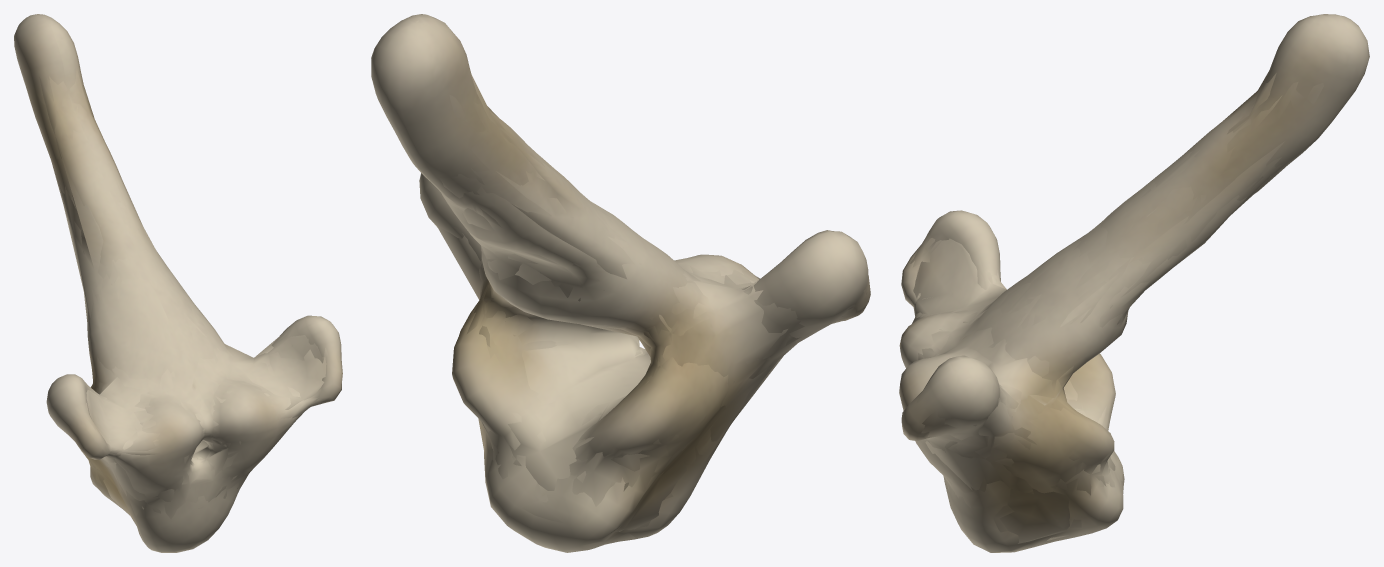
Rendered from vertebrae thoracicae 07.fbx.
3 renders of one model, left to right at view 1: azimuth 30°, elevation 25°; view 2: azimuth 150°, elevation 25°; view 3: azimuth 270°, elevation 25°, orthographic. The views are drawn at different scales.
Visible parts, largest first — view 1: vertebrae thoracicae 07 high, vertebrae thoracicae 07 low, vertebrae thoracicae 07; view 2: vertebrae thoracicae 07 high, vertebrae thoracicae 07 low, vertebrae thoracicae 07; view 3: vertebrae thoracicae 07 high, vertebrae thoracicae 07, vertebrae thoracicae 07 low.
Boxes of the visible parts, x1,y1,x2,y2 form: vertebrae thoracicae 07 high: [14, 14, 342, 552]; vertebrae thoracicae 07 low: [39, 68, 326, 525]; vertebrae thoracicae 07: [22, 17, 341, 519]; vertebrae thoracicae 07 high: [371, 14, 870, 552]; vertebrae thoracicae 07 low: [436, 74, 847, 531]; vertebrae thoracicae 07: [415, 20, 868, 546]; vertebrae thoracicae 07 high: [899, 14, 1369, 552]; vertebrae thoracicae 07: [910, 15, 1336, 532]; vertebrae thoracicae 07 low: [912, 71, 1284, 543].
Size of the model in its own units: 8.91 by 12.91 by 10.4.
Materials: 1 (1 with a texture image).
